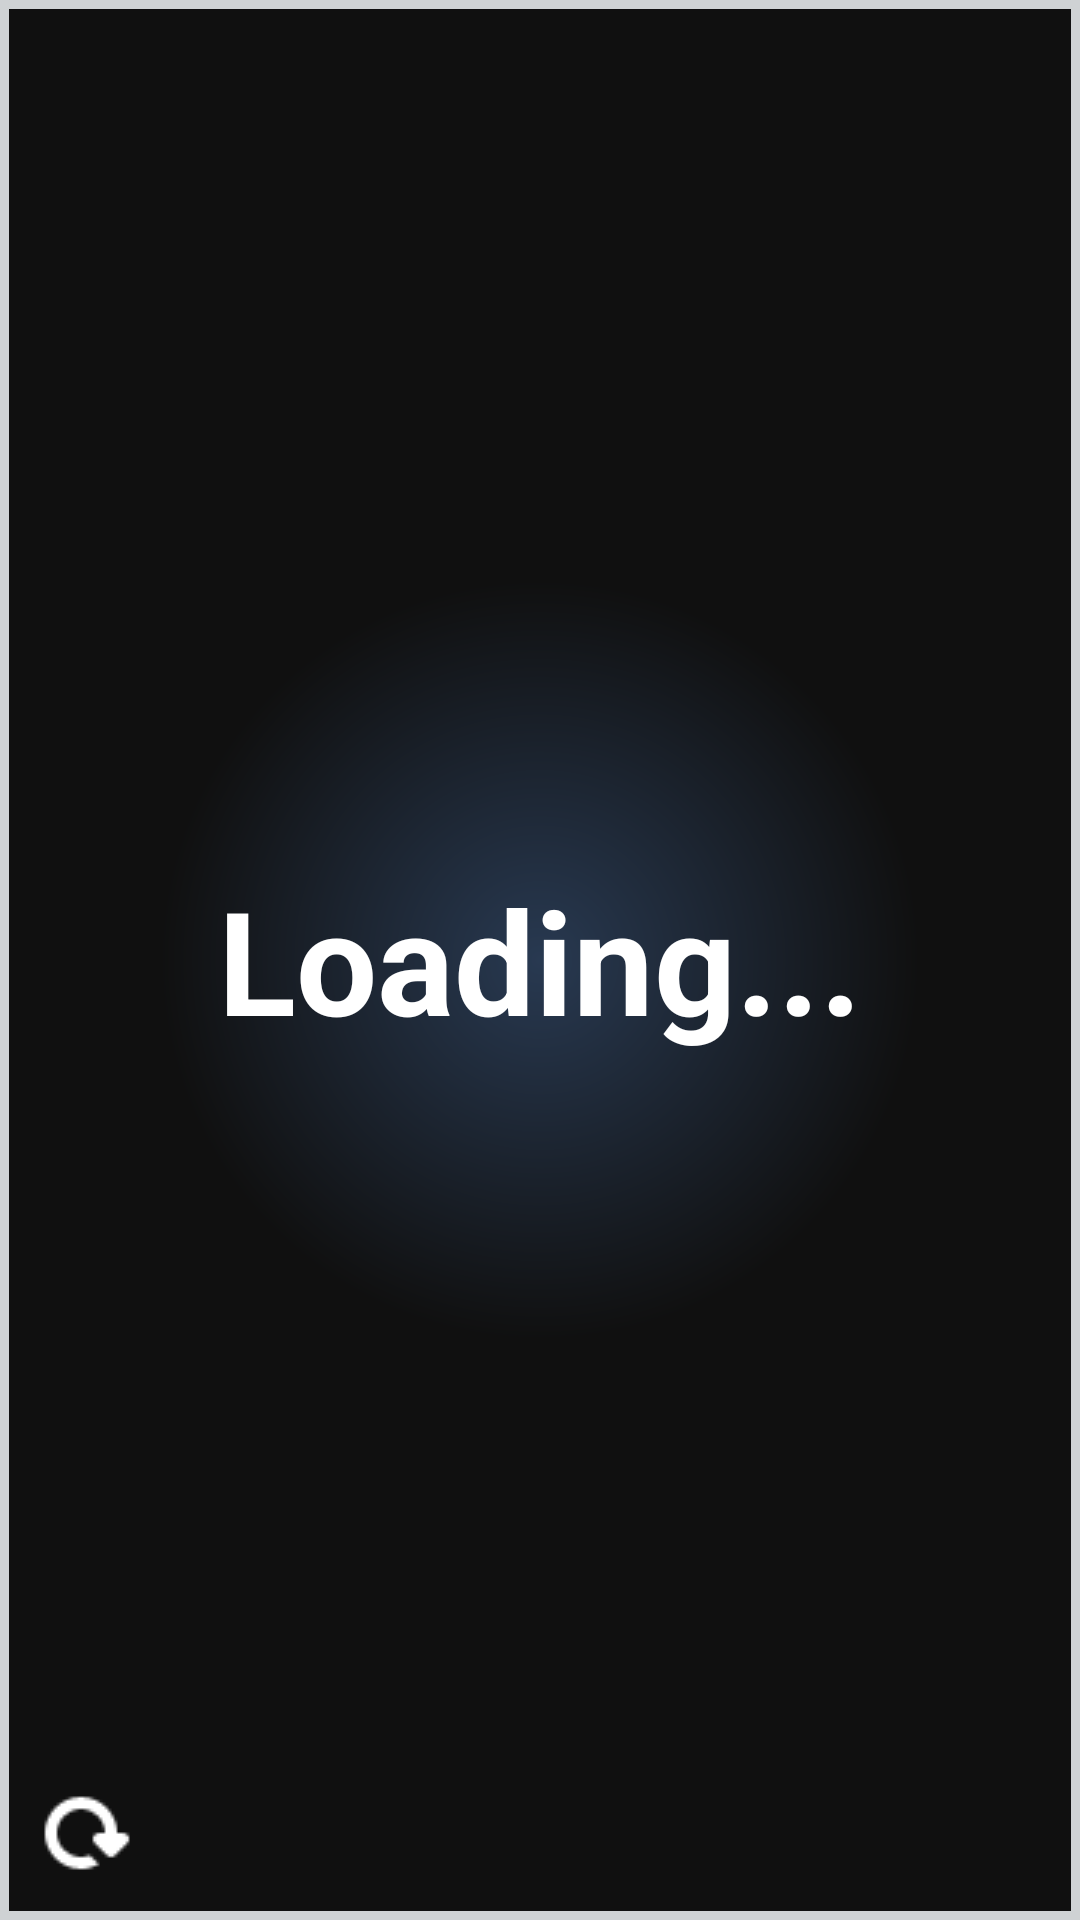

Named icons in this screenshot (1080 x 1920) and their bounding boxes, box(x1, y1, x2, y2):
refresh: box(44, 1796, 130, 1870)
